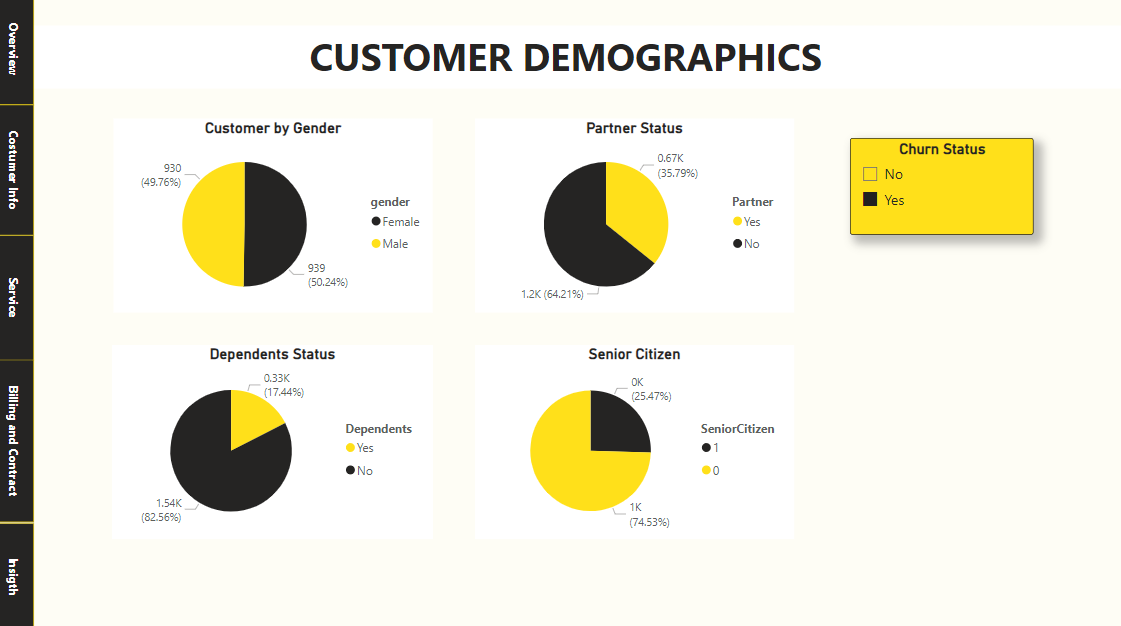

Layout of this report page (visuals, bound fields, positions):
{"tool":"powerbi","page":{"name":"Customer Info","canvas":[1280,720],"ordinal":1},"visuals":[{"type":"textbox","box":[9.5,35,1269.3,71.6],"z":0},{"type":"pieChart","title":"Customer by Gender","fields":{"Category":["Tabel.gender"],"Y":["CountNonNull(Tabel.gender)"]},"box":[133.4,141.4,360.5,219.1],"z":1000},{"type":"pieChart","title":"Dependents Status","fields":{"Category":["Tabel.Dependents"],"Y":["CountNonNull(Tabel.Dependents)"]},"box":[131.5,396.4,362.5,219.1],"z":2000},{"type":"slicer","title":"Churn Status","fields":{"Values":["Tabel.Churn"]},"box":[966,163.3,207.1,109.5],"z":3000},{"type":"pieChart","title":"Senior Citizen","fields":{"Category":["Tabel.SeniorCitizen"],"Y":["Tabel.Total Pelanggan"]},"box":[541.8,396.4,360.5,219.1],"z":4000},{"type":"pieChart","title":"Partner Status","fields":{"Category":["Tabel.Partner"],"Y":["CountNonNull(Tabel.Partner)"]},"box":[541.8,141.4,360.5,219.1],"z":5000},{"type":"shape","box":[0,0,43.8,125.5],"z":6000},{"type":"shape","box":[0,125.5,43.8,147.4],"z":7000},{"type":"shape","box":[0,272.9,43.8,141.4],"z":8000},{"type":"shape","box":[0,414.3,43.8,183.2],"z":9000},{"type":"shape","box":[0,597.5,43.8,121.5],"z":10000}]}

Visuals, with their boxes on the page's 1280x720 design canvas (x1, y1, x2, y2). These are canvas units, not pixel positions in the 1121x626 screenshot, which may show the page scaled, cropped or inside an application window:
textbox: 10,35,1279,107
"Customer by Gender" pieChart: 133,141,494,360
"Dependents Status" pieChart: 132,396,494,616
"Churn Status" slicer: 966,163,1173,273
"Senior Citizen" pieChart: 542,396,902,616
"Partner Status" pieChart: 542,141,902,360
shape: 0,0,44,126
shape: 0,126,44,273
shape: 0,273,44,414
shape: 0,414,44,598
shape: 0,598,44,719
